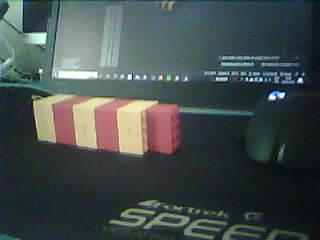lego: (33, 93, 182, 156)
